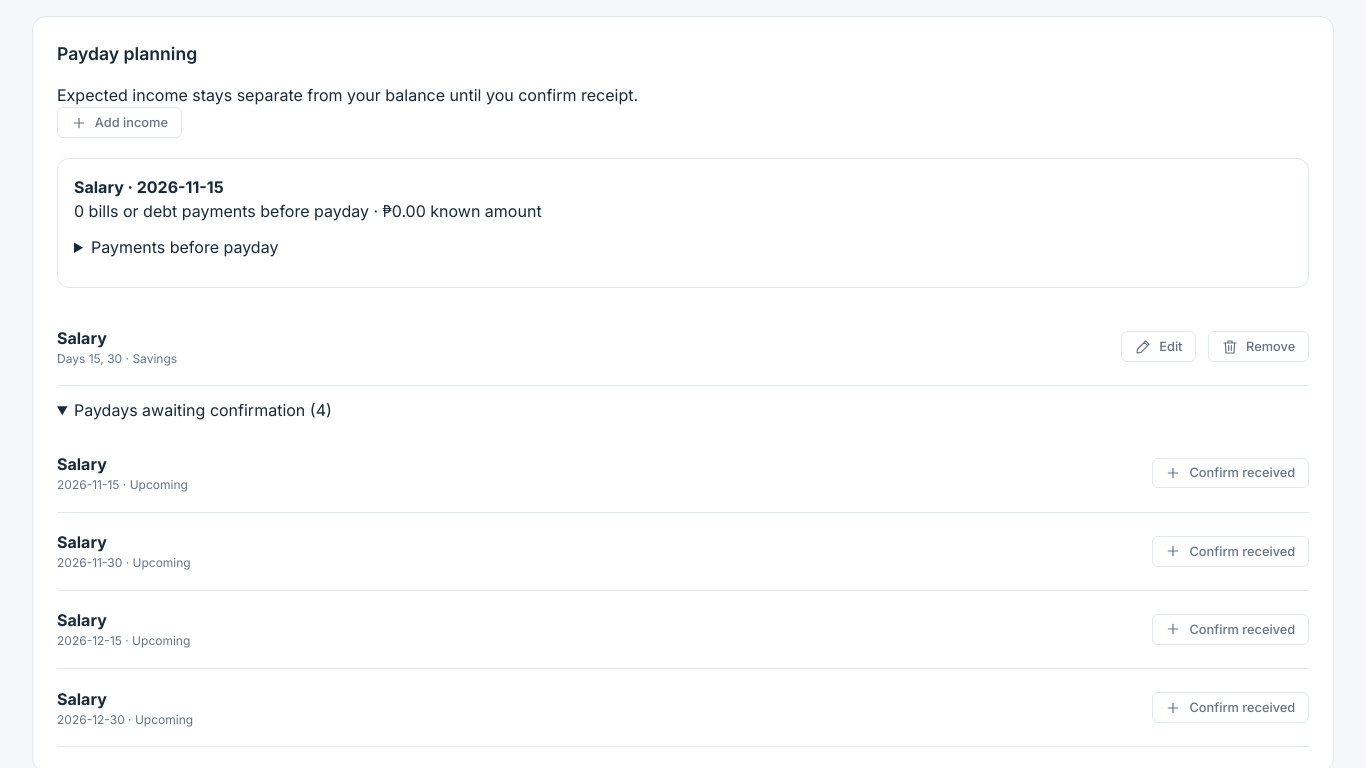
Test: requires confirmation before recording income and allows changing the received amount
Later steps or results of the test are not shown.
Step 1. Click the 1st button "Confirm received" → (1230, 473), box [1152,458,1309,488]
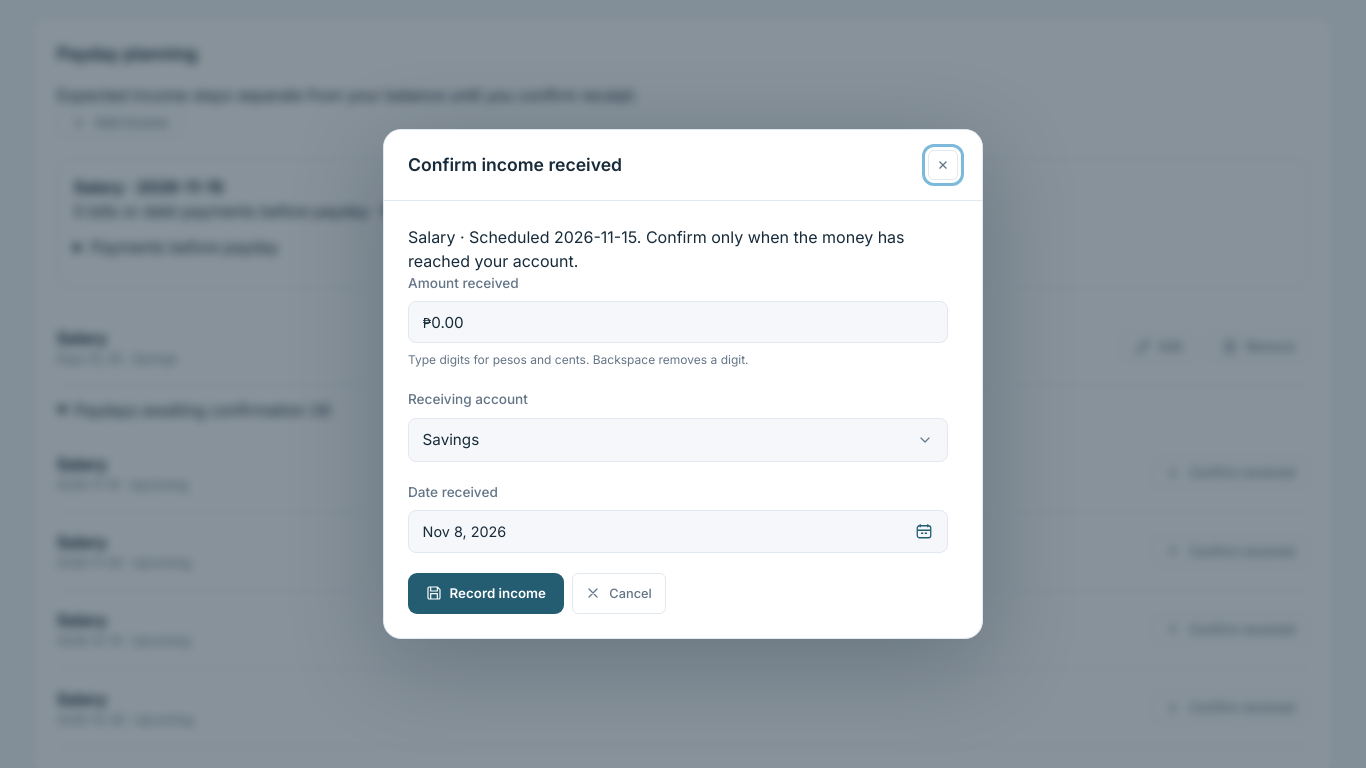
Check: the field labelled "Amount received" holds "₱0.00", box [408,301,948,343]
